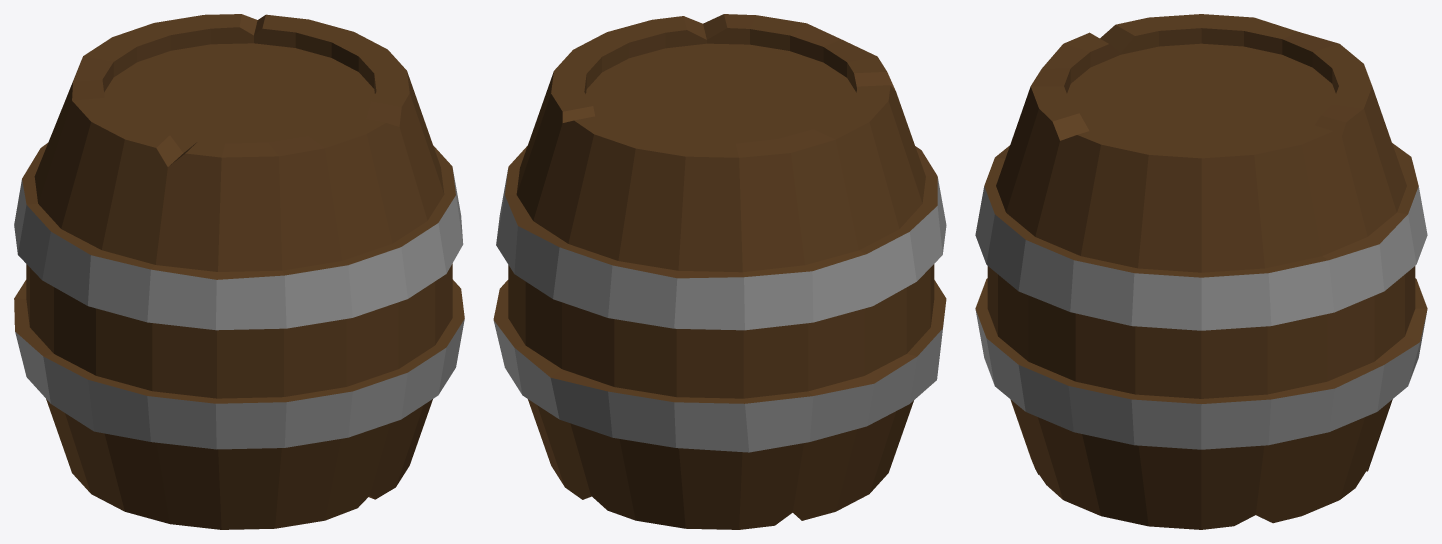
The model's file is barril.fbx.
3 views of the same model, side by side, from view 1: azimuth 30°, elevation 25°; view 2: azimuth 150°, elevation 25°; view 3: azimuth 270°, elevation 25° (orthographic).
Parts seen in each view (by area): view 1: barrel; view 2: barrel; view 3: barrel.
Part boxes in pixels (x1,y1,x2,y2): barrel: (14, 14, 464, 529); barrel: (493, 14, 946, 529); barrel: (975, 14, 1427, 529).
Bounding box in the file's own units: 132 × 120 × 132.
